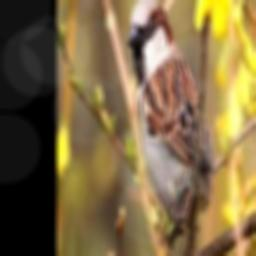Sparrow: (126, 0, 213, 245)
